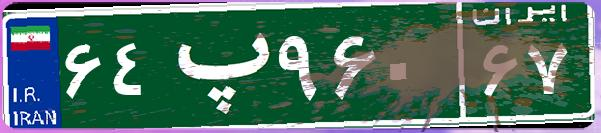0: (385, 28, 445, 110)
4: (110, 28, 158, 105)
6: (330, 28, 385, 110), (57, 26, 110, 107), (475, 38, 525, 113)
7: (525, 38, 570, 115)
9: (273, 28, 330, 110)
پ: (158, 15, 273, 115)
